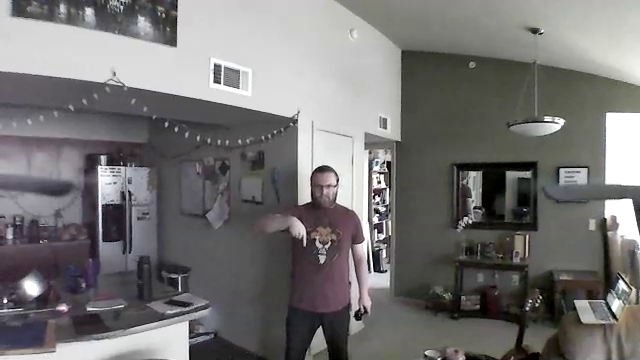down: (281, 209, 315, 250)
